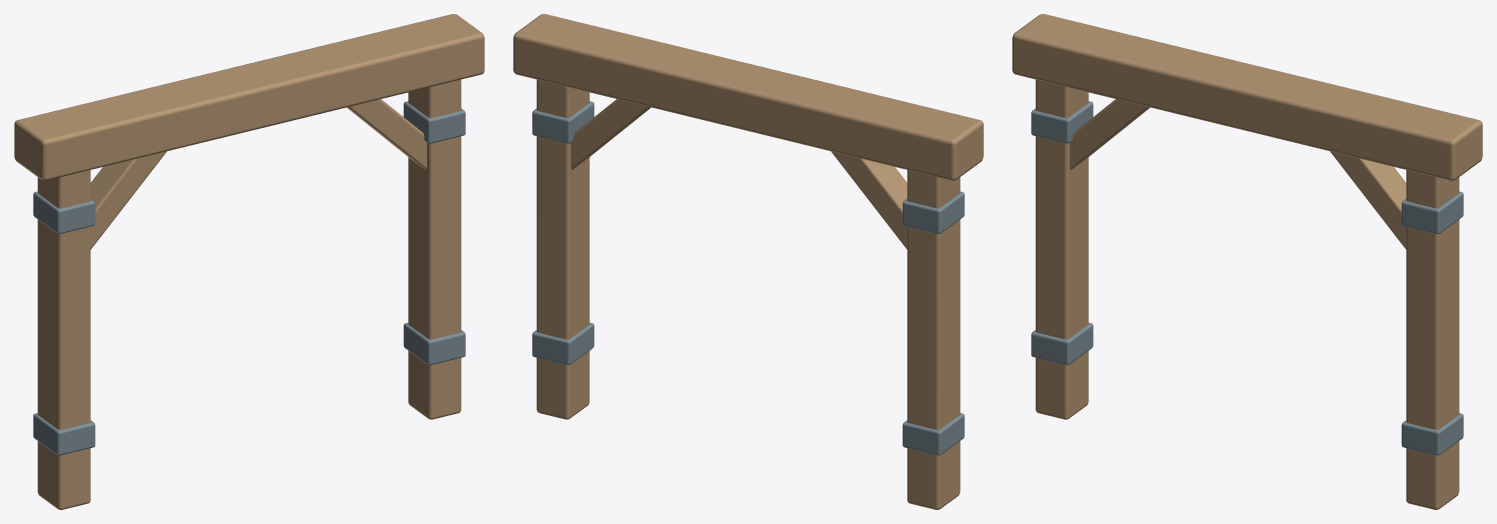
The model's file is mine_support.glb.
3 renders of one model, left to right at view 1: azimuth 30°, elevation 25°; view 2: azimuth 150°, elevation 25°; view 3: azimuth 330°, elevation 25°, orthographic.
Parts seen in each view (by area): view 1: mine_support; view 2: mine_support; view 3: mine_support.
Part boxes in pixels (left/top/right/bottom): mine_support: left=14, top=14, right=484, bottom=509; mine_support: left=513, top=14, right=983, bottom=509; mine_support: left=1012, top=14, right=1482, bottom=509.
Size of the model in its own units: 3.35 by 2.73 by 0.4.
